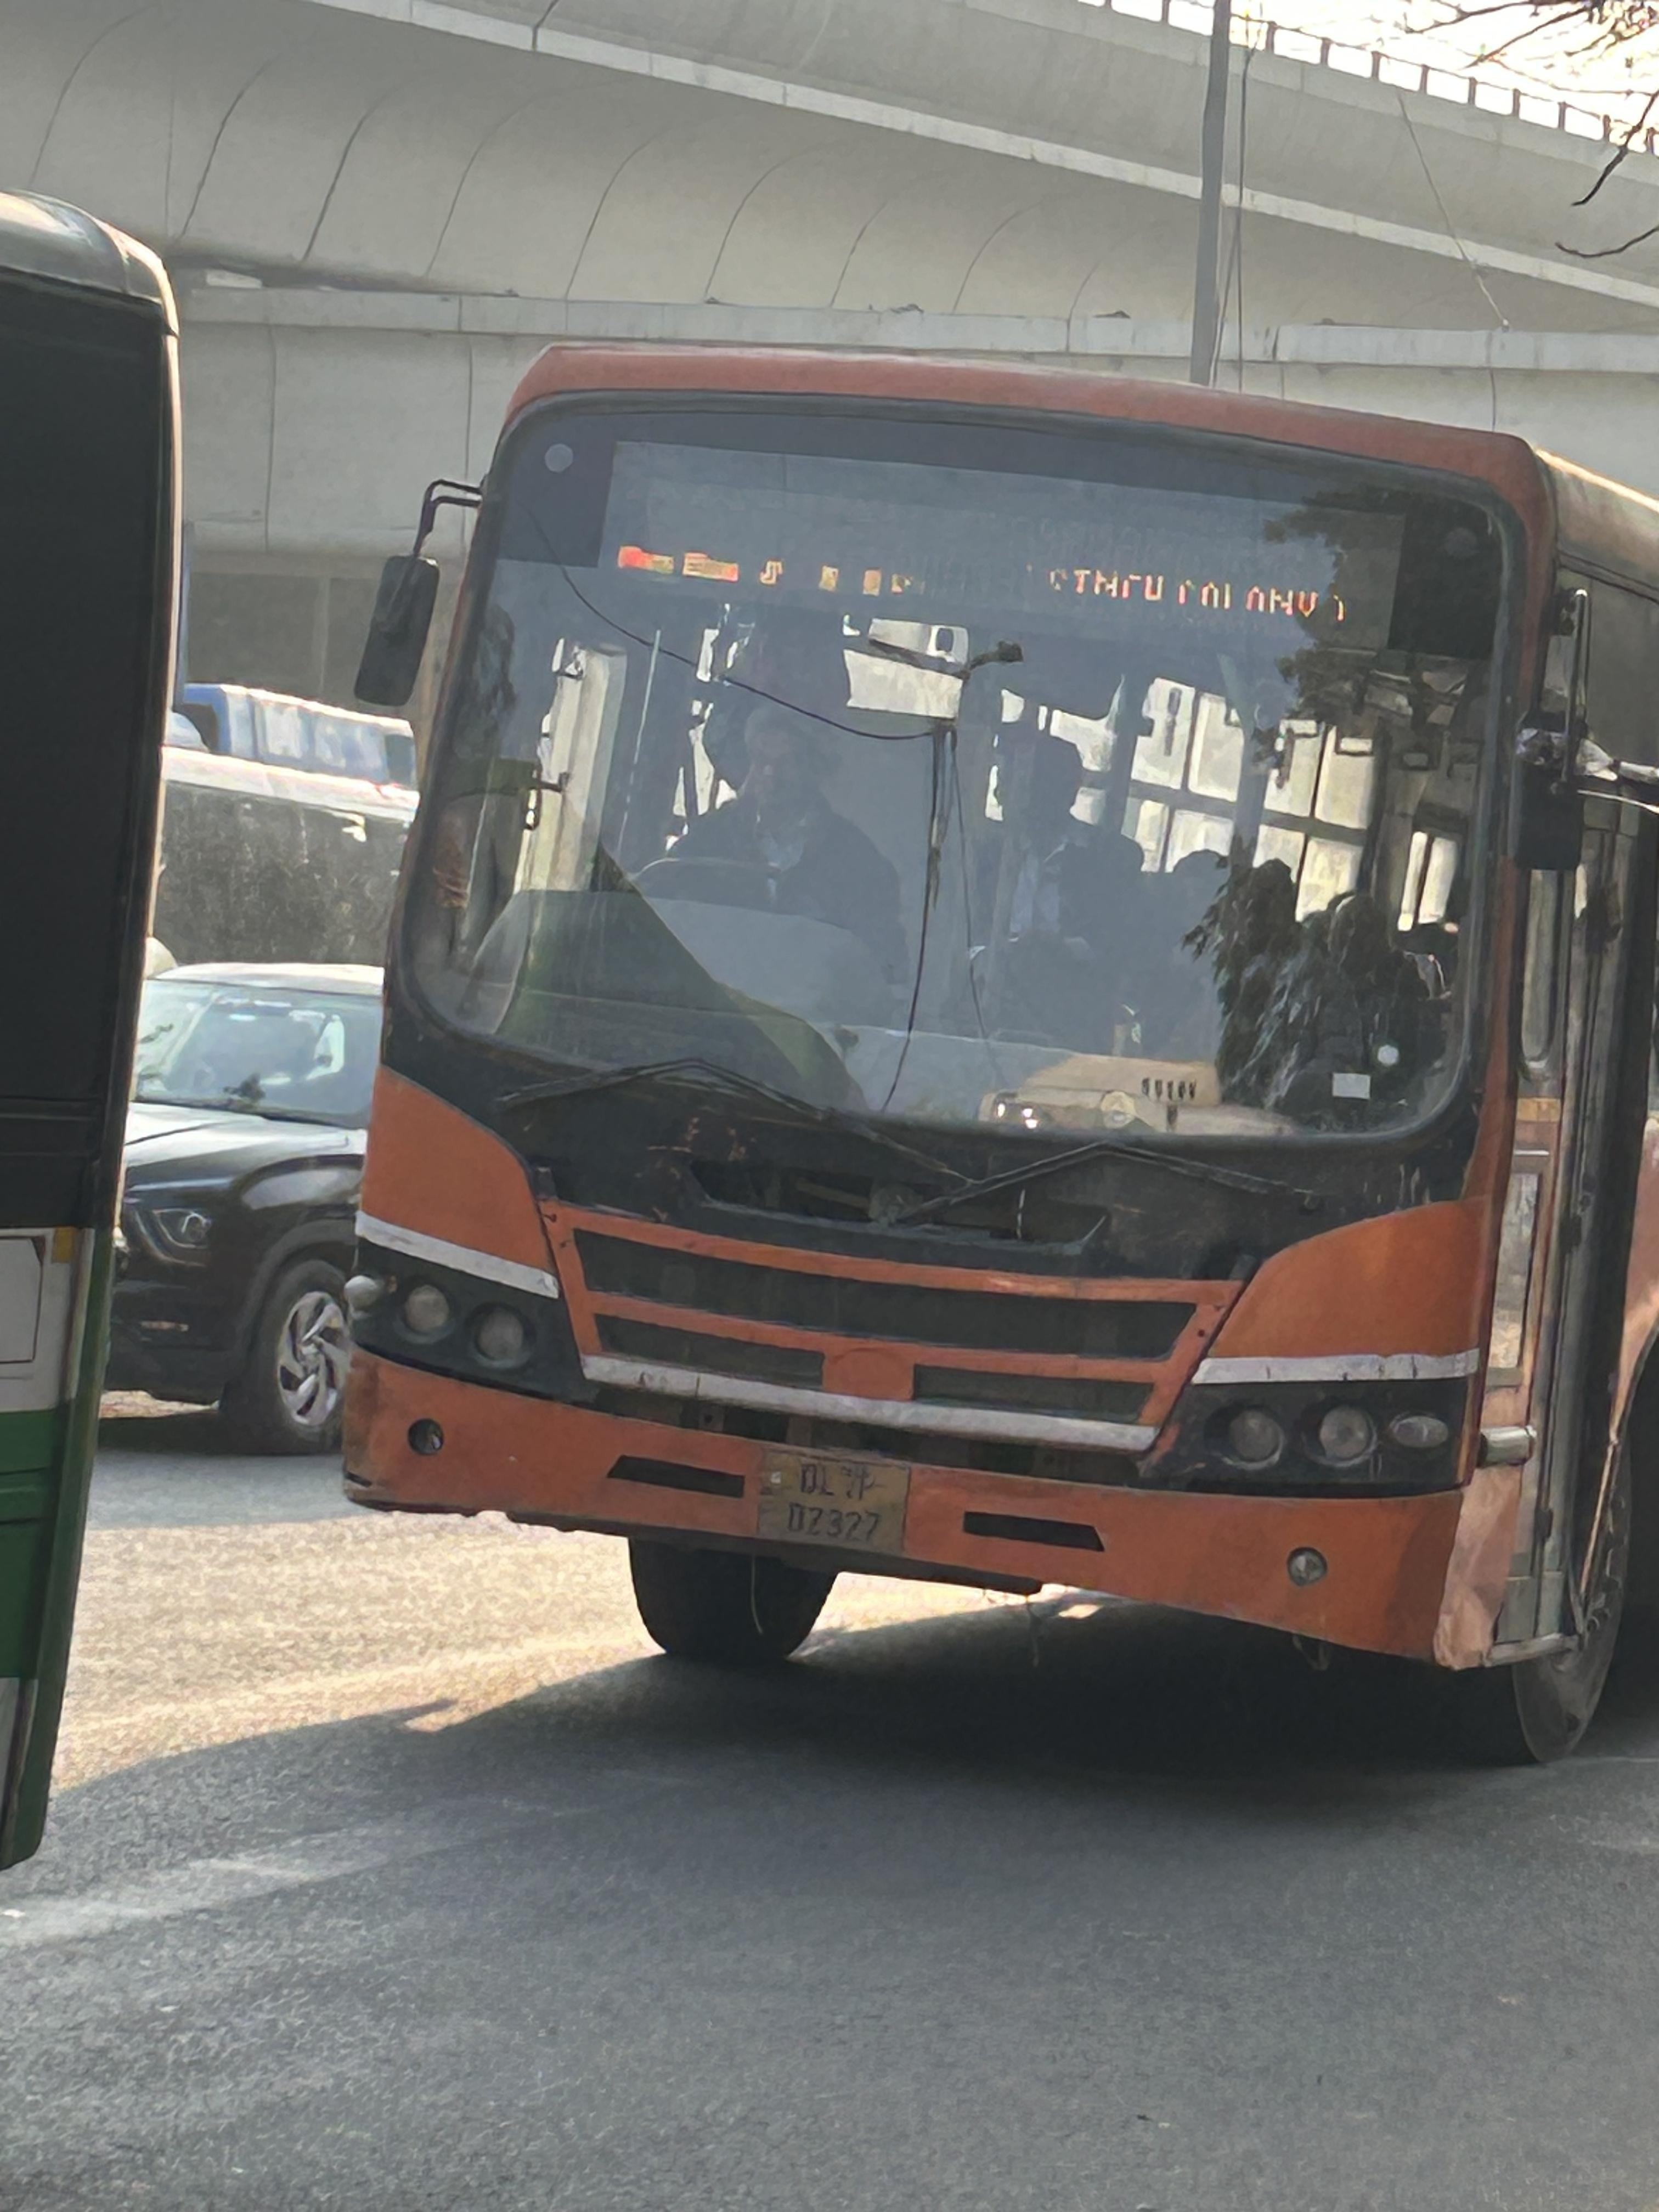Bus: (313, 313, 1635, 1712)
Display Board: (477, 368, 1585, 724)
License Plate: (691, 1404, 966, 1591)
